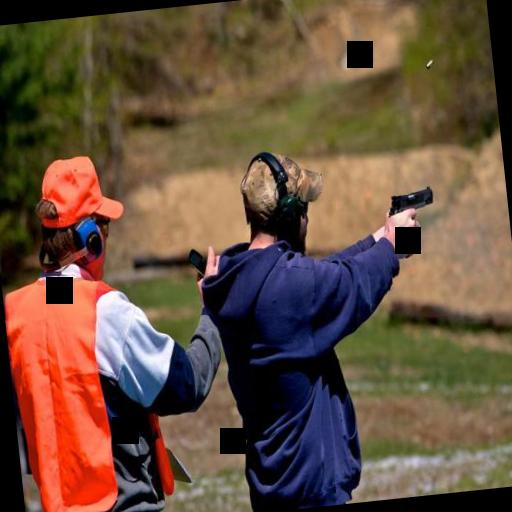Handgun: (381, 180, 440, 252)
